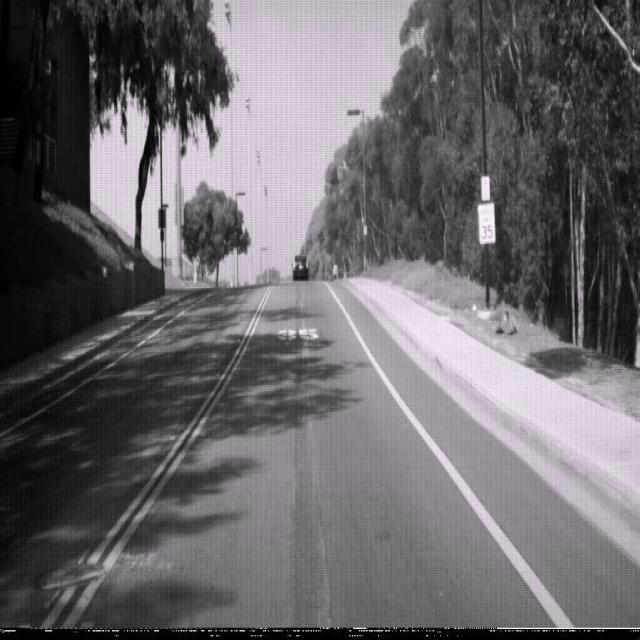speedLimit35: (477, 200, 496, 245)
